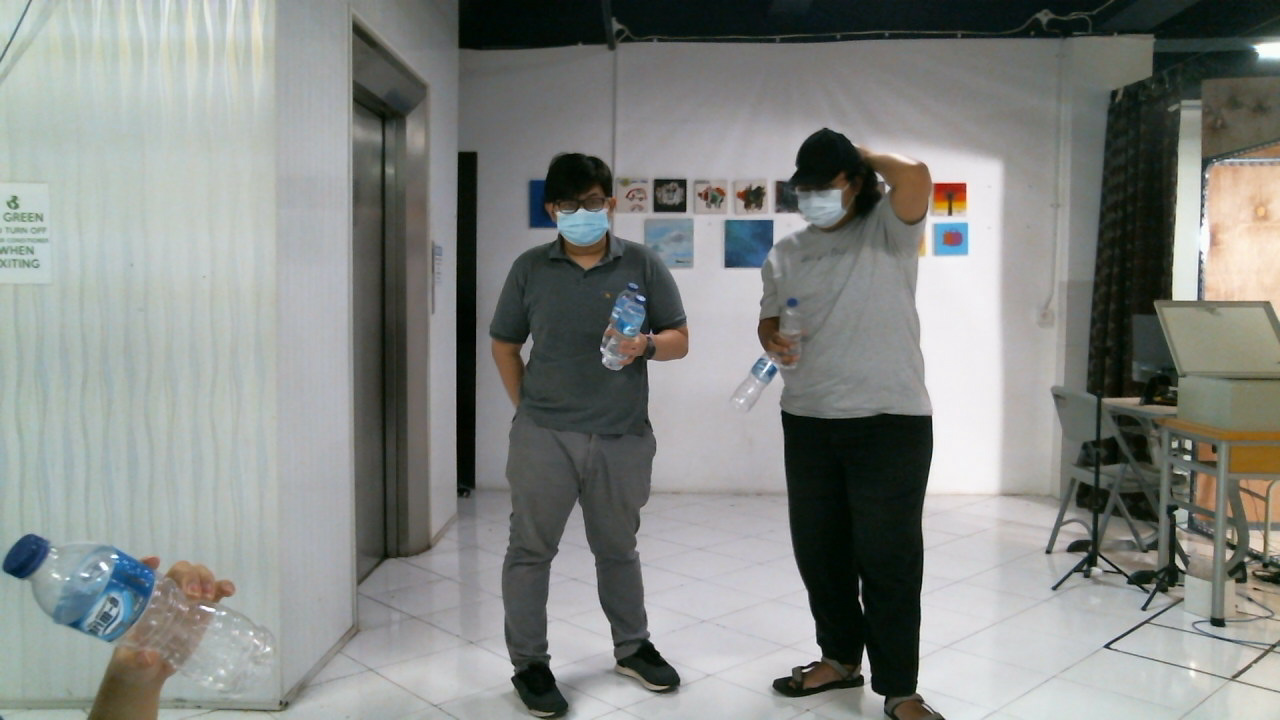Bottle: (8, 536, 283, 698), (601, 295, 649, 371)
